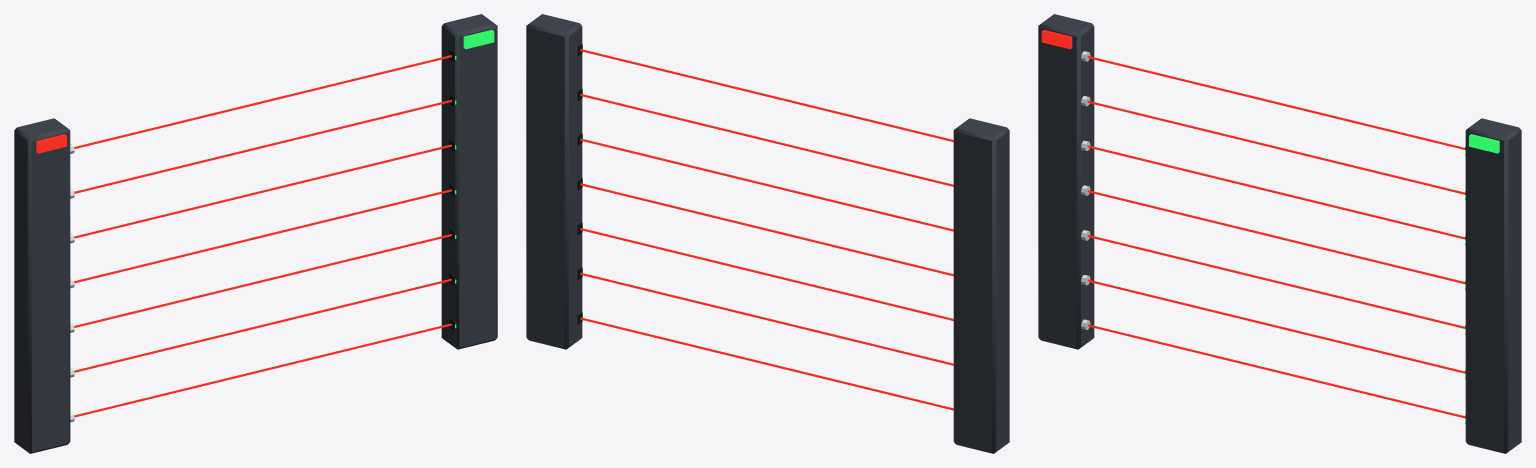
File: forcefield_laser_grid_emitter.glb
The picture shows the model from 3 angles, left to right: view 1: azimuth 30°, elevation 25°; view 2: azimuth 150°, elevation 25°; view 3: azimuth 330°, elevation 25°; orthographic projection.
Parts seen in each view (by area): view 1: forcefield_laser_grid_emitter; view 2: forcefield_laser_grid_emitter; view 3: forcefield_laser_grid_emitter.
Boxes of the visible parts, x1,y1,x2,y2 form: forcefield_laser_grid_emitter: (14,14,497,453); forcefield_laser_grid_emitter: (526,14,1009,453); forcefield_laser_grid_emitter: (1038,14,1521,453).
Size of the model in its own units: 2.64 by 1.7 by 0.18.
